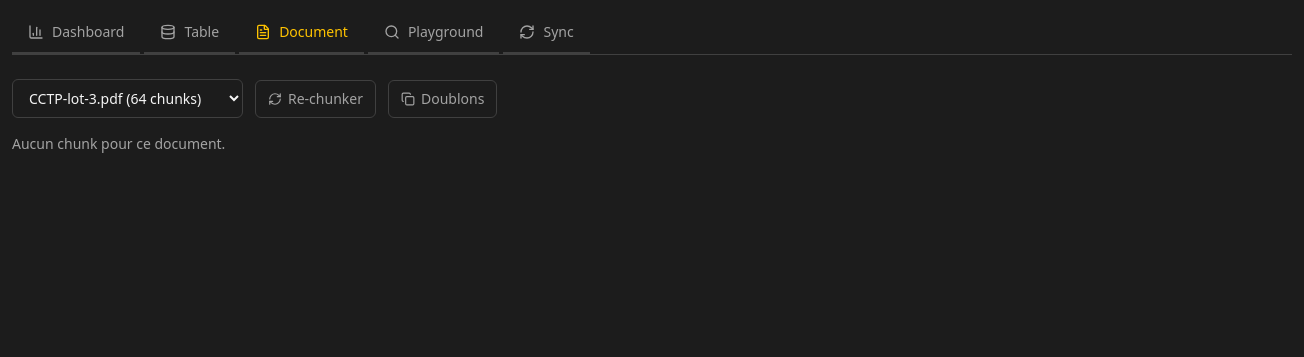
AdminDashboard — a failure whose surface is gone is still reported › clears the reported failure when the user dismisses it
The width and height of the screenshot is (1304, 357).
Click the button "Re-chunker" at (316,98), box [255, 80, 376, 118]
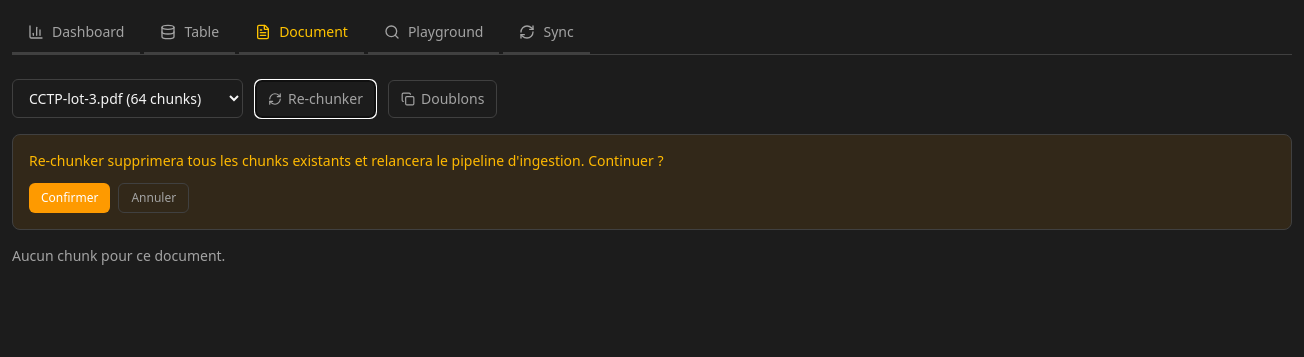
Click the button "Confirmer" at (70,198), box [29, 183, 110, 213]
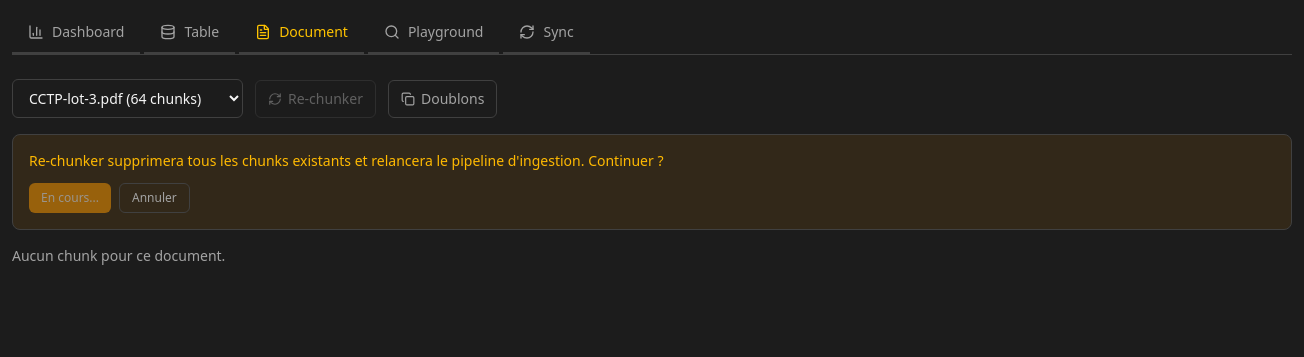
Click the tab "Table" at (190,33), box [144, 12, 235, 54]
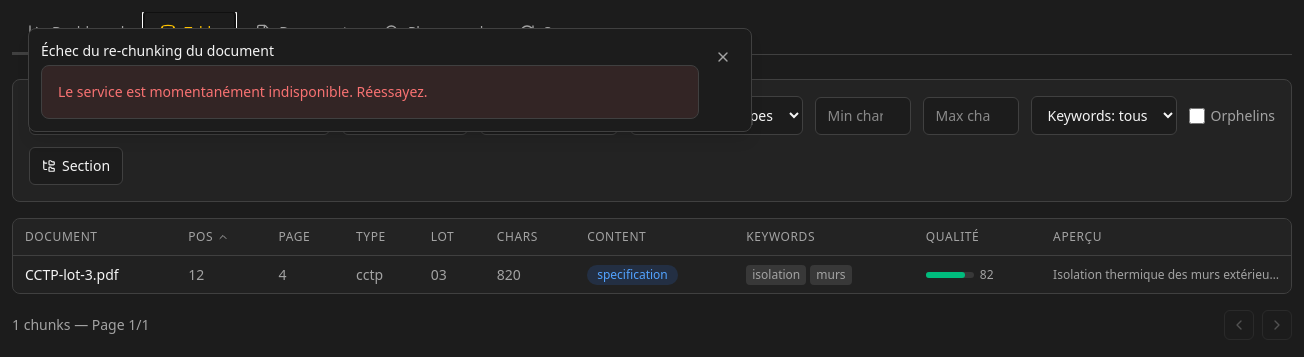
expect the message "Le service est momentanément indisponible. Réessayez." is shown: met, box [41, 65, 699, 119]
Click the button named "Masquer cette erreur" at (723,57), box [707, 41, 739, 73]
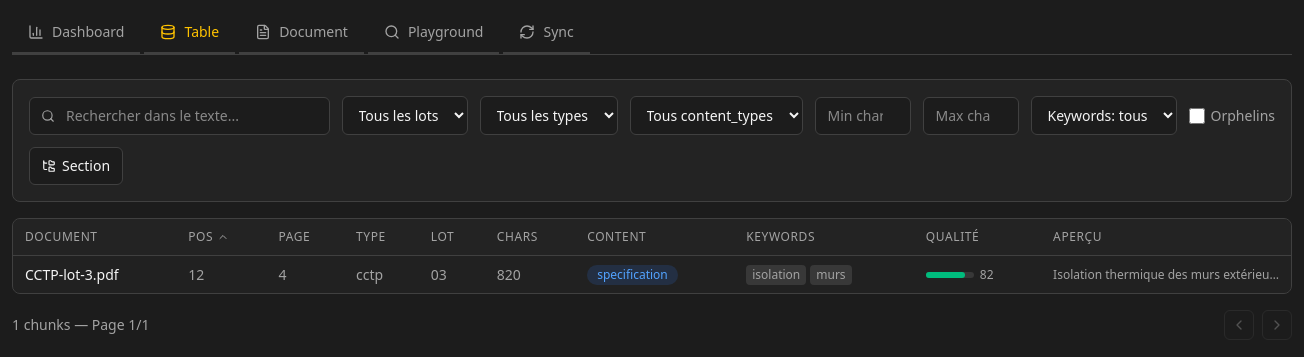
expect the message "Le service est momentanément indisponible. Réessayez." is gone: met
